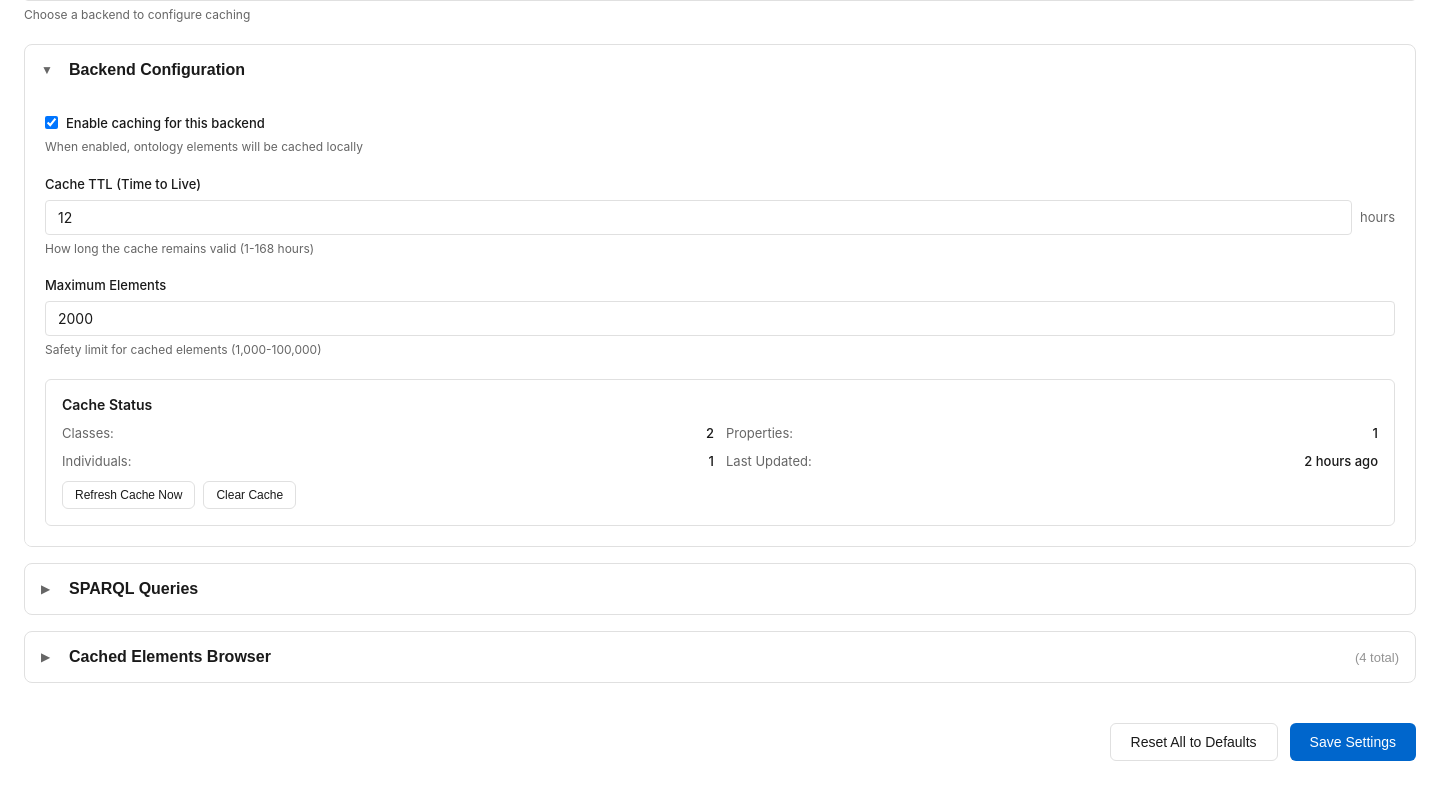
CacheSettingsView - element browser › lists elements with labels, fallbacks and metadata
The width and height of the screenshot is (1440, 785).
(page scrolled)
Click the button with class "section-header" that starts with "Cached Elements Browser" at (170, 657), box top-left (25, 632), bottom-right (1415, 682)
(page scrolled)
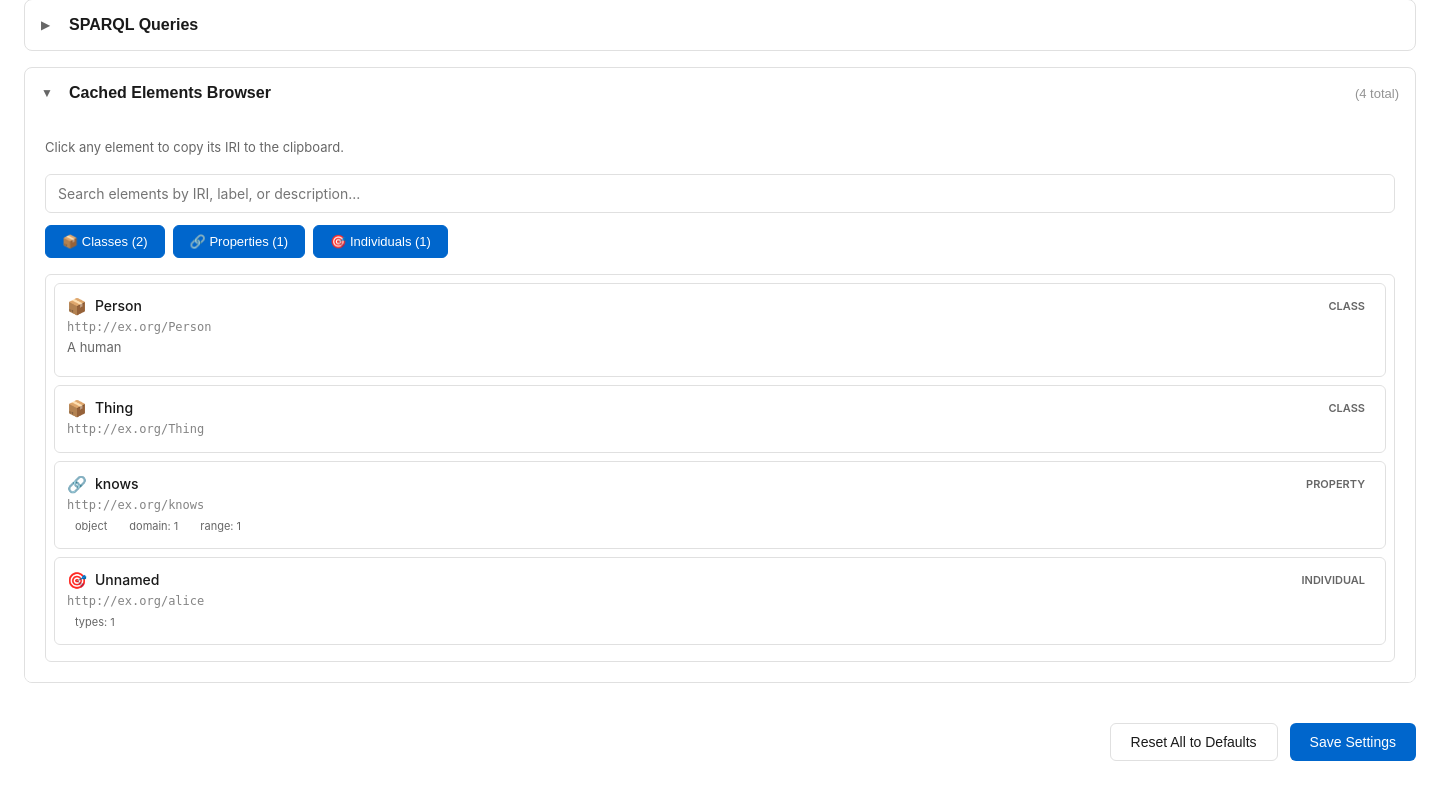
Now the text "Person" is shown, box top-left (95, 297), bottom-right (142, 314)
Now the text "A human" is shown, box top-left (67, 339), bottom-right (121, 355)
Now the text "Thing" is shown, box top-left (95, 399), bottom-right (133, 416)
